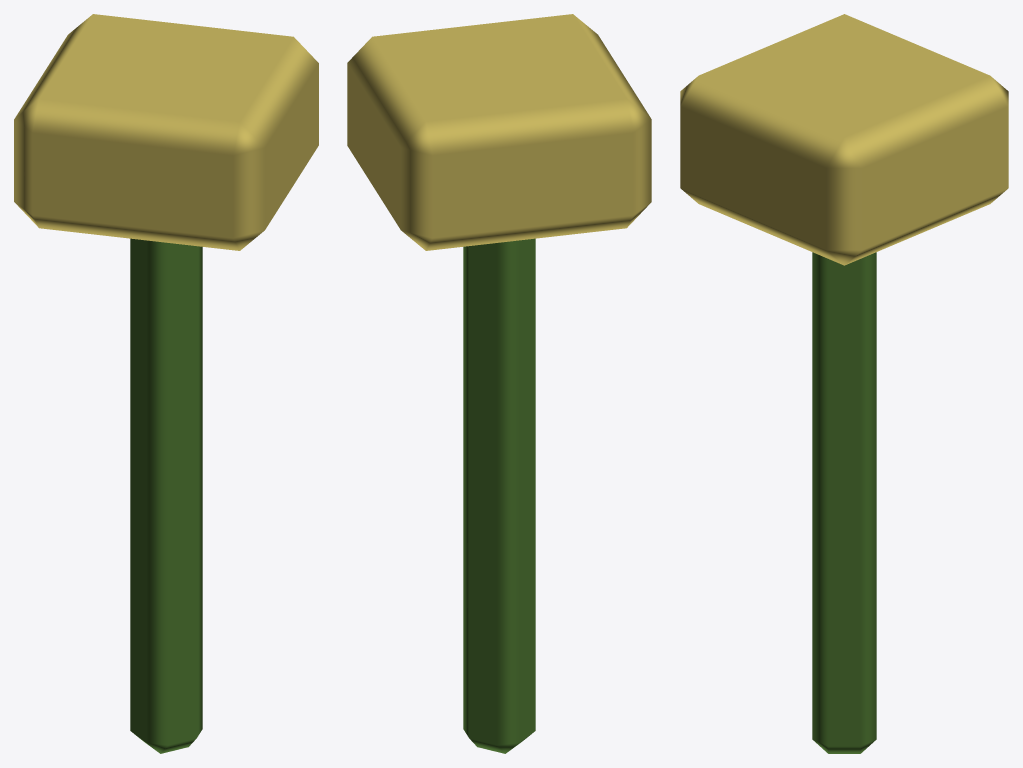
File: wildflowers.9af2d381.glb
3 views of the same model, side by side, from view 1: azimuth 30°, elevation 25°; view 2: azimuth 150°, elevation 25°; view 3: azimuth 270°, elevation 25° (orthographic).
Visible parts, largest first — view 1: body; view 2: body; view 3: body.
Boxes of the visible parts, bbox=[...] form: body: bbox=[14, 14, 318, 753]; body: bbox=[347, 14, 651, 753]; body: bbox=[680, 14, 1008, 753].
Bounding box in the file's own units: 0.0509 × 0.115 × 0.0509.
